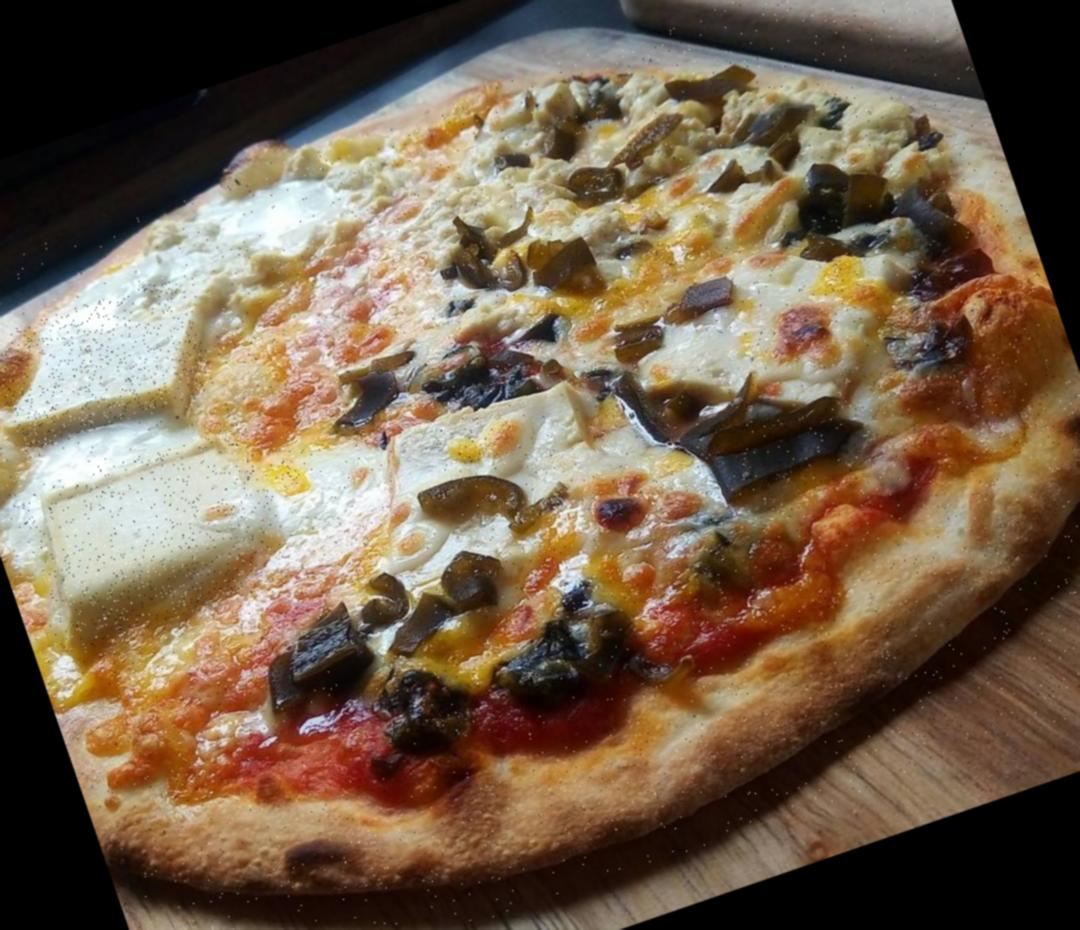Cheese: (14, 420, 298, 656), (0, 271, 218, 454), (164, 153, 356, 294)
Corn: (432, 413, 502, 476), (679, 202, 739, 259), (814, 253, 862, 297), (620, 188, 669, 231), (643, 442, 692, 484), (269, 457, 305, 500)
Pizza: (0, 0, 1080, 930)
